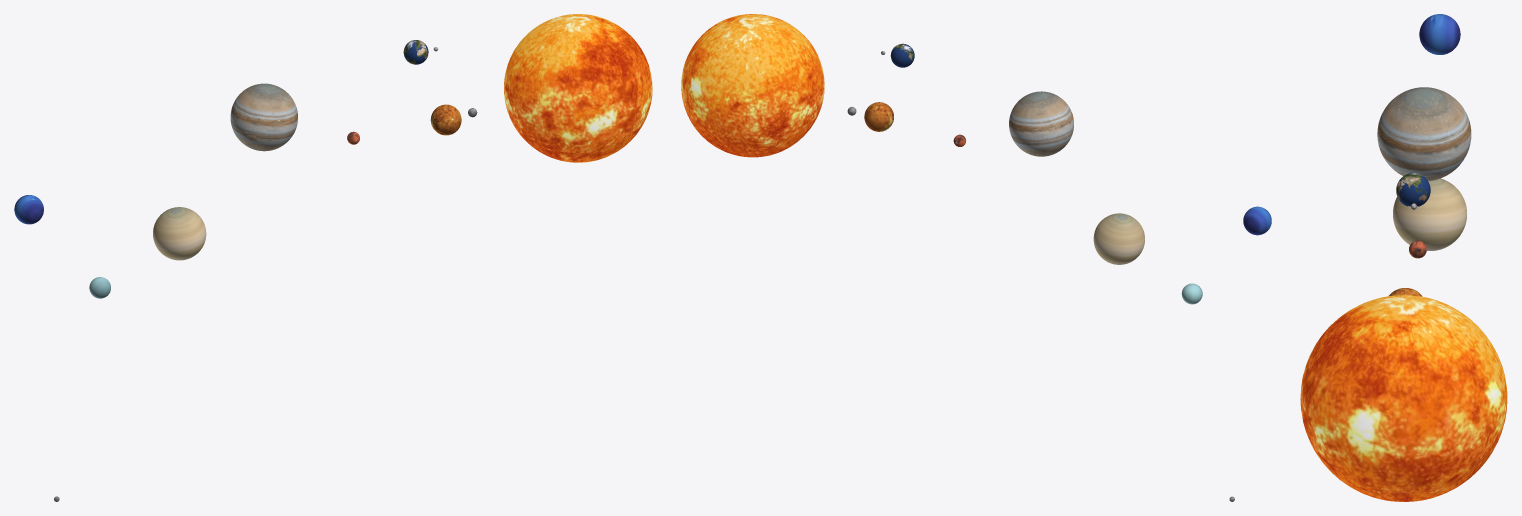
The model's file is solar-system.glb.
The picture shows the model from 3 angles, left to right: view 1: azimuth 30°, elevation 25°; view 2: azimuth 150°, elevation 25°; view 3: azimuth 270°, elevation 25°; orthographic projection. The views are drawn at different scales.
Parts seen in each view (by area): view 1: Object_56, Object_17, Object_20, Object_8, Object_28; view 2: Object_56, Object_17, Object_20, Object_8, Object_28; view 3: Object_56, Object_17, Object_20, Object_28, Object_11, Object_14.
Part boxes in pixels (left/top/right/bottom): Object_56: left=504, top=14, right=652, bottom=162; Object_17: left=230, top=83, right=297, bottom=151; Object_20: left=153, top=207, right=206, bottom=260; Object_8: left=430, top=104, right=461, bottom=135; Object_28: left=14, top=195, right=43, bottom=224; Object_56: left=681, top=14, right=824, bottom=157; Object_17: left=1009, top=91, right=1073, bottom=156; Object_20: left=1093, top=213, right=1144, bottom=264; Object_8: left=864, top=102, right=893, bottom=131; Object_28: left=1243, top=206, right=1271, bottom=235; Object_56: left=1300, top=295, right=1507, bottom=501; Object_17: left=1377, top=87, right=1471, bottom=180; Object_20: left=1393, top=178, right=1466, bottom=250; Object_28: left=1419, top=14, right=1460, bottom=54; Object_11: left=1396, top=173, right=1430, bottom=207; Object_14: left=1409, top=240, right=1426, bottom=258.
Bounding box in the file's own units: 57.07 × 33.94 × 11.99.
Materials: 10 (10 with a texture image).
